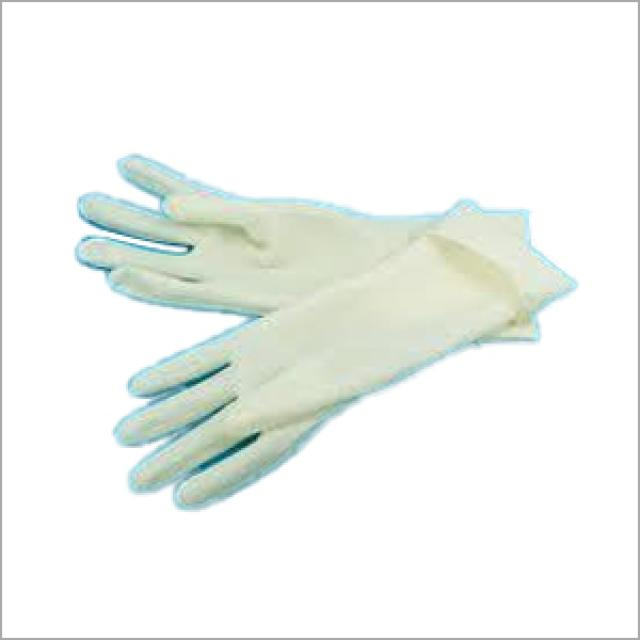Gloves: (99, 217, 589, 545), (70, 141, 549, 324)
